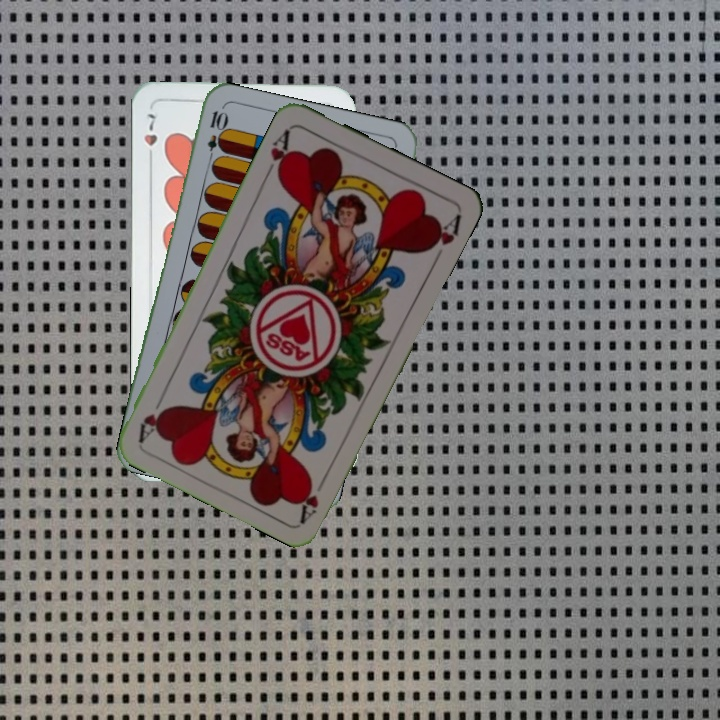E10: (203, 107, 227, 166)
H7: (140, 108, 160, 165)
HA: (295, 468, 331, 524), (261, 125, 295, 182)
